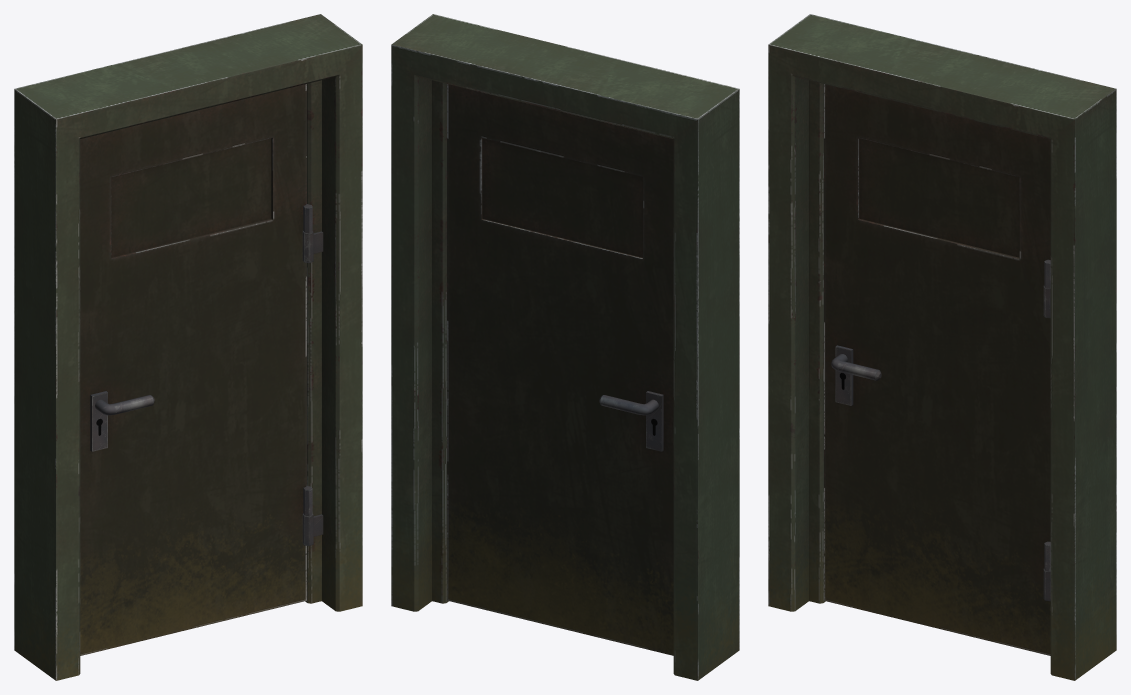
Rendered from door.glb.
3 views of the same model, side by side, from view 1: azimuth 30°, elevation 25°; view 2: azimuth 150°, elevation 25°; view 3: azimuth 330°, elevation 25° (orthographic).
Visible parts, largest first — view 1: door, frame, handle; view 2: door, frame, handle; view 3: door, frame, handle.
Part boxes in pixels (x1,y1,x2,y2): door: (80,84,312,655); frame: (14,14,362,680); handle: (95,395,154,415); door: (447,84,673,655); frame: (391,14,739,680); handle: (599,395,658,415); door: (824,84,1050,655); frame: (768,14,1116,680); handle: (831,354,881,380).
Bounding box in the file's own units: 127 × 222 × 30.
Materials: 1 (1 with a texture image).
